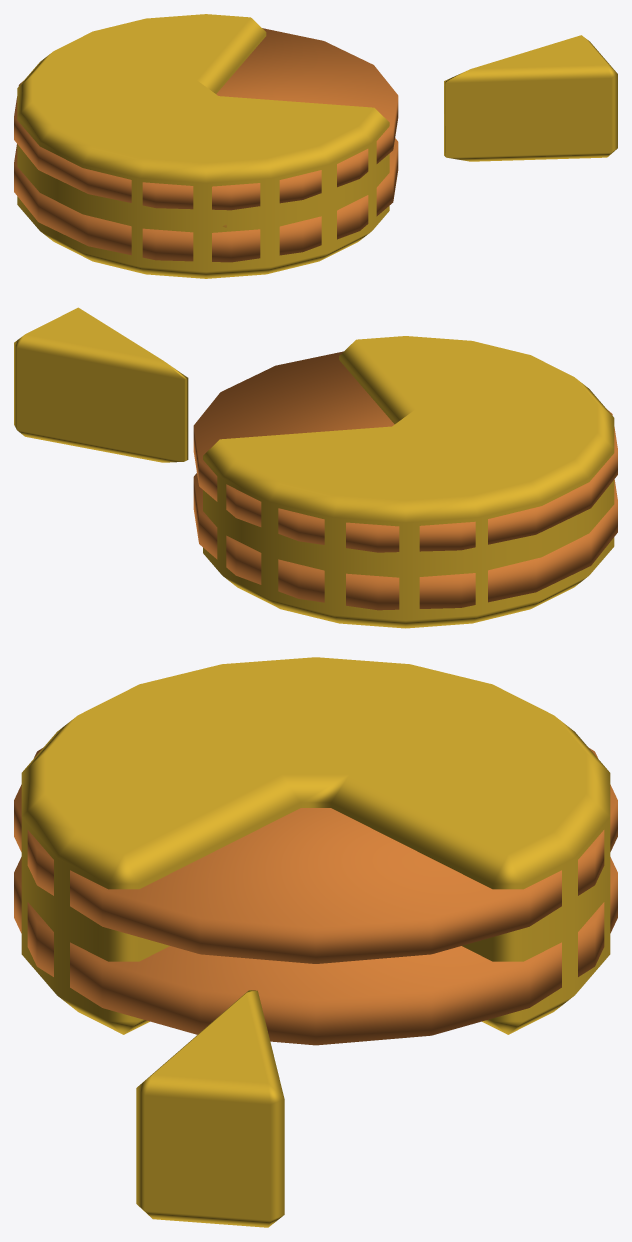
The model's file is item_cheese.glb.
3 renders of one model, top to bottom at view 1: azimuth 30°, elevation 25°; view 2: azimuth 150°, elevation 25°; view 3: azimuth 270°, elevation 25°, orthographic. The views are drawn at different scales.
Visible parts, largest first — view 1: item_cheese; view 2: item_cheese; view 3: item_cheese.
Boxes of the visible parts, bbox=[...] form: item_cheese: bbox=[14, 14, 617, 278]; item_cheese: bbox=[14, 307, 617, 628]; item_cheese: bbox=[14, 657, 617, 1227].
Size of the model in its own units: 0.4849 by 0.1 by 0.303.
